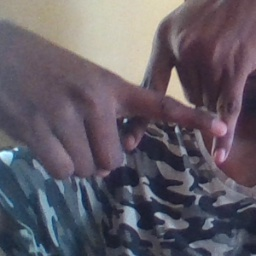H: (109, 38, 248, 171)
